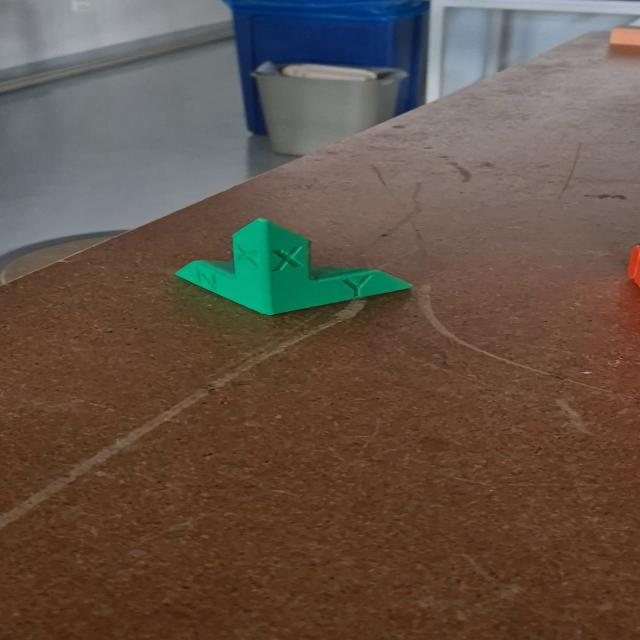objects: (173, 216, 416, 316)
